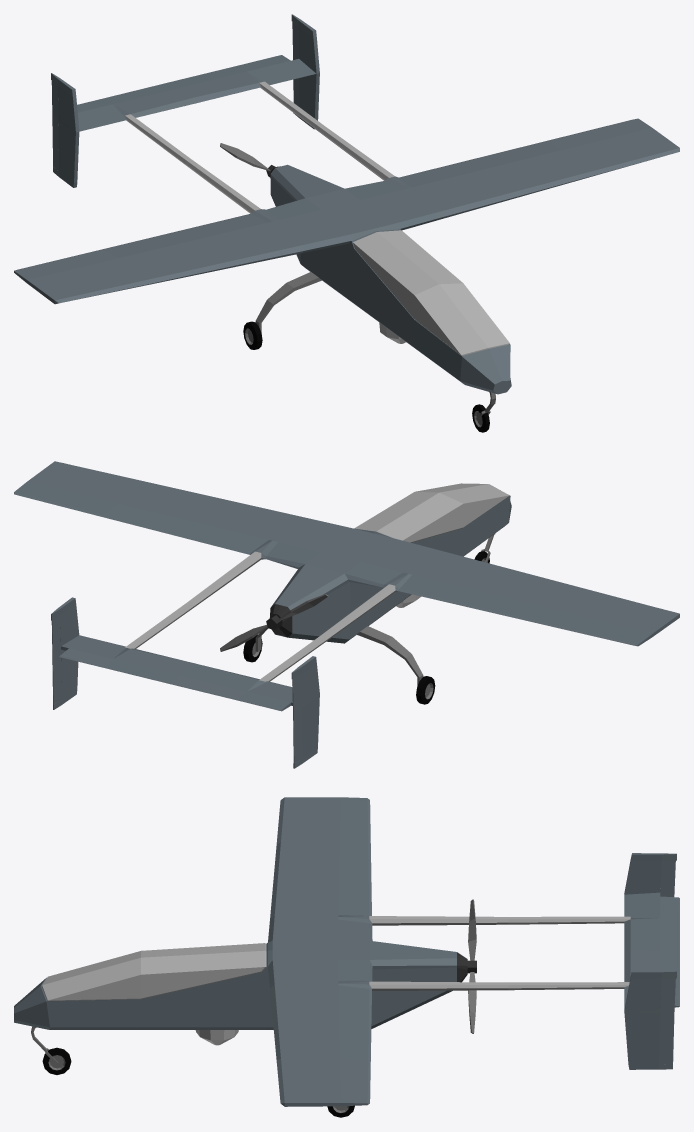
The picture shows the model from 3 angles, top to bottom: view 1: azimuth 30°, elevation 25°; view 2: azimuth 150°, elevation 25°; view 3: azimuth 270°, elevation 25°; orthographic projection.
Visible parts, largest first — view 1: Cube.010, Cube.017, Cube.011, Cube.019, Cube.012; view 2: Cube.010, Cube.017, Cube.011, Cube.012, Cube.019, Circle.001, Cube.018, Cube.013; view 3: Cube.010, Cube.011, Cube.017, Cube.013, Cube.012, Circle.001, Cube.016, Cube.019, Cube.018.
Part boxes in pixels (x1,y1,x2,y2): Cube.010: [14, 14, 679, 420]; Cube.017: [547, 120, 645, 149]; Cube.011: [20, 249, 118, 278]; Cube.019: [171, 55, 290, 87]; Cube.012: [77, 82, 179, 112]; Cube.010: [14, 461, 679, 768]; Cube.017: [19, 483, 117, 516]; Cube.011: [547, 611, 645, 644]; Cube.012: [170, 675, 290, 711]; Cube.019: [59, 648, 179, 683]; Circle.001: [220, 594, 328, 651]; Cube.018: [292, 674, 302, 763]; Cube.013: [51, 616, 61, 704]; Cube.010: [14, 797, 676, 1106]; Cube.011: [339, 800, 370, 843]; Cube.017: [339, 1058, 370, 1101]; Cube.013: [659, 978, 675, 1064]; Cube.012: [660, 896, 679, 951]; Circle.001: [467, 899, 476, 1033]; Cube.016: [42, 1047, 71, 1074]; Cube.019: [660, 951, 679, 1007]; Cube.018: [660, 860, 675, 896].
Size of the model in its own units: 422 by 104 by 389.
